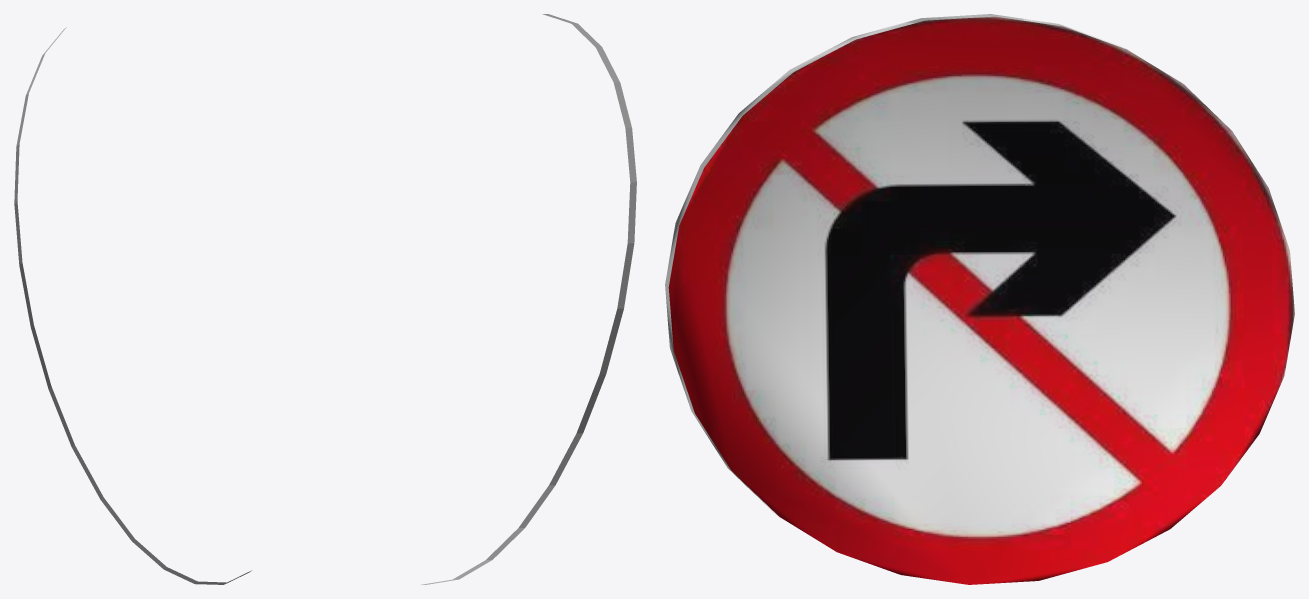
The picture shows the model from 3 angles, left to right: view 1: azimuth 30°, elevation 25°; view 2: azimuth 150°, elevation 25°; view 3: azimuth 270°, elevation 25°; orthographic projection. The views are drawn at different scales.
Visible parts, largest first — view 1: model02; view 2: model02; view 3: model02.
Part boxes in pixels (<box>): model02: <box>14,27,251,584</box>; model02: <box>421,14,636,584</box>; model02: <box>665,14,1294,584</box>.
Size of the model in its own units: 0.0279 by 1.19 by 1.19.
3 materials, 2 textured.
